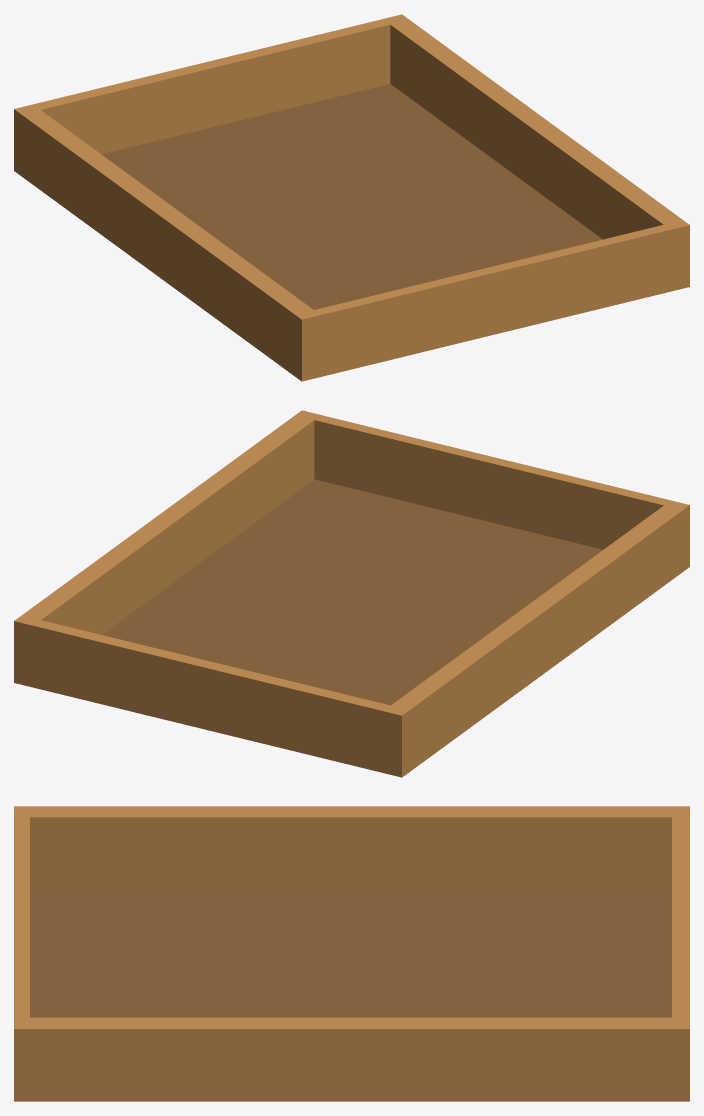
File: pallet.fbx
3 renders of one model, top to bottom at view 1: azimuth 30°, elevation 25°; view 2: azimuth 150°, elevation 25°; view 3: azimuth 270°, elevation 25°, orthographic. The views are drawn at different scales.
Visible parts, largest first — view 1: Cube; view 2: Cube; view 3: Cube.
Part boxes in pixels (x1,y1,x2,y2): Cube: (14,14,689,381); Cube: (14,410,689,777); Cube: (14,806,689,1101).
Size of the model in its own units: 200 by 30.48 by 257.
